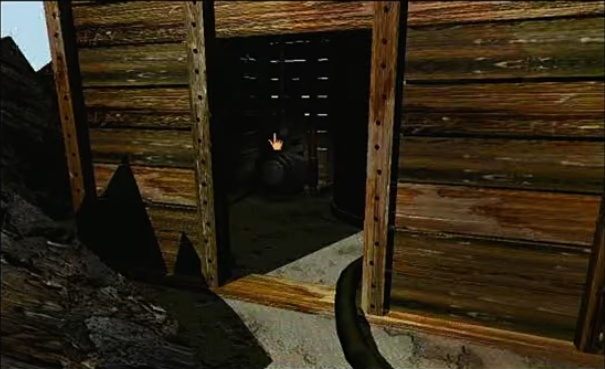Pointer: (265, 129, 288, 152)
